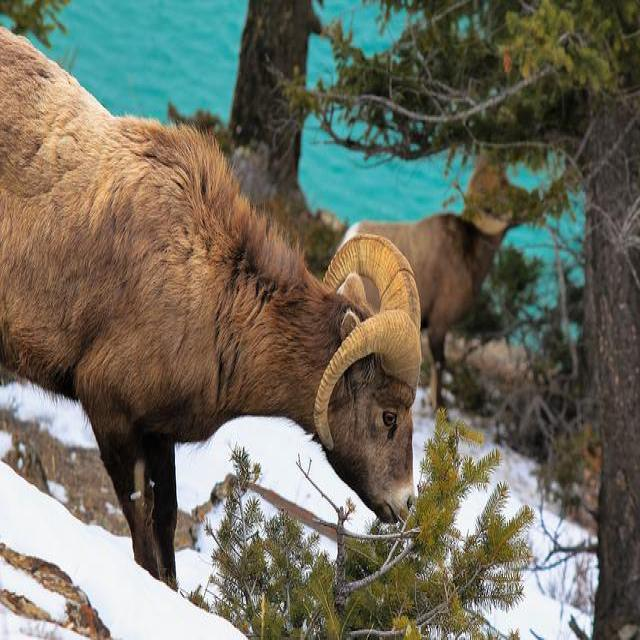Sheep: (1, 26, 423, 589), (332, 154, 537, 426)
